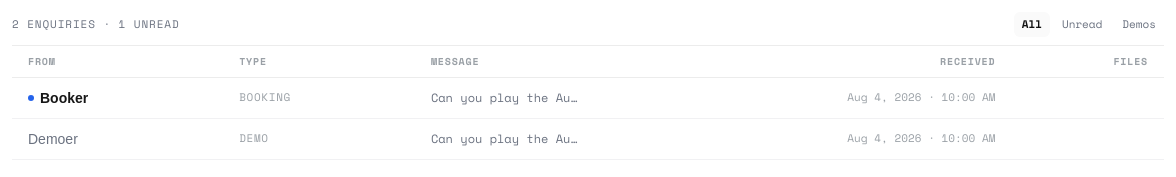
EnquiryTable — rows › filters to demos regardless of read state
Click the button "Demos" at (1139, 24), box x1=1114 y1=12 x2=1164 y2=36
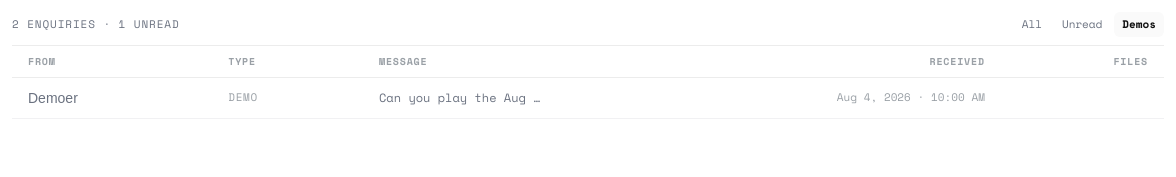
Expected: the text "Demoer" is shown, x1=28 y1=88 x2=78 y2=108
Expected: the text "Booker" is gone
